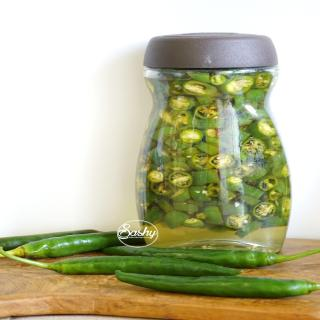Cabai Hijau: (2, 224, 320, 303)
